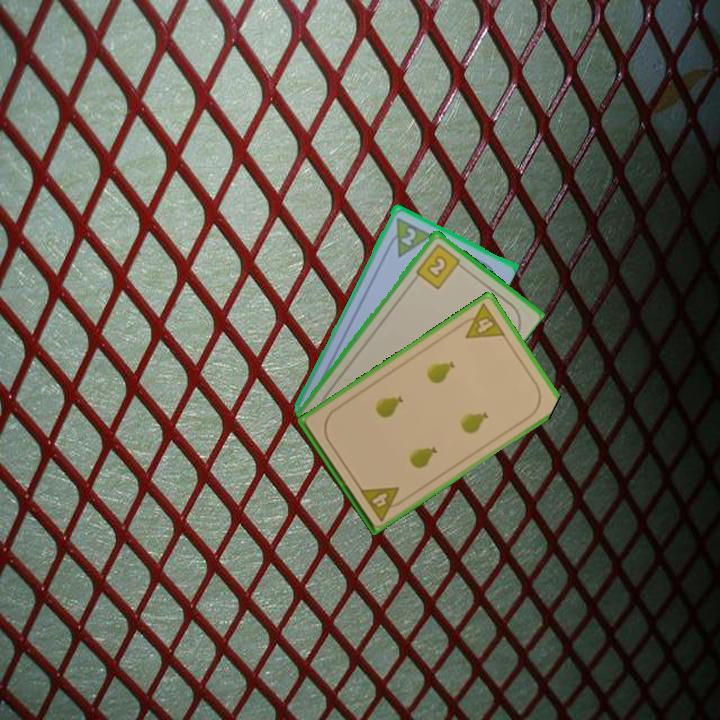2b: (412, 240, 467, 292)
2p: (382, 213, 433, 260)
4p: (455, 300, 508, 341), (356, 483, 408, 524)
